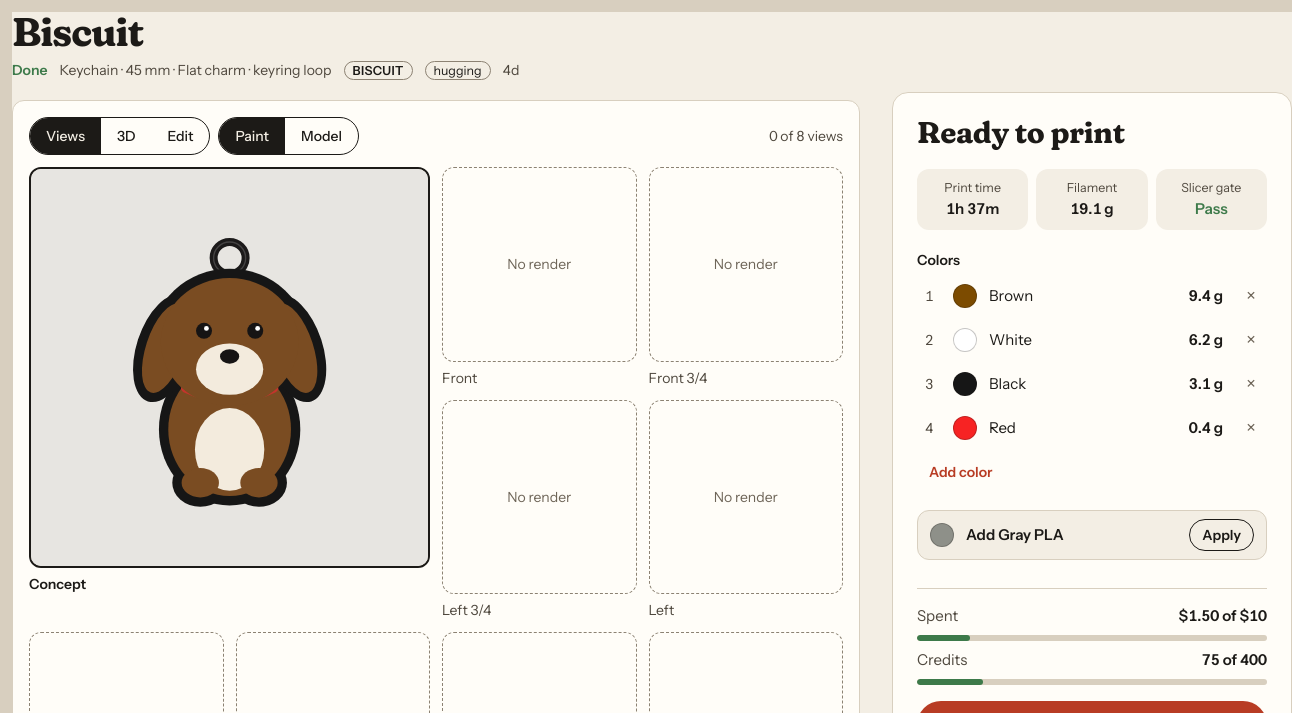
it: Filament picker › lists owned spools first, then catalog colors by line, with a Not owned tag and search
Expected: the text "Brown" is shown, [989,286,1033,304]
Click the button with aria-label "Change slot 1": (1011,295) [917,274,1231,318]
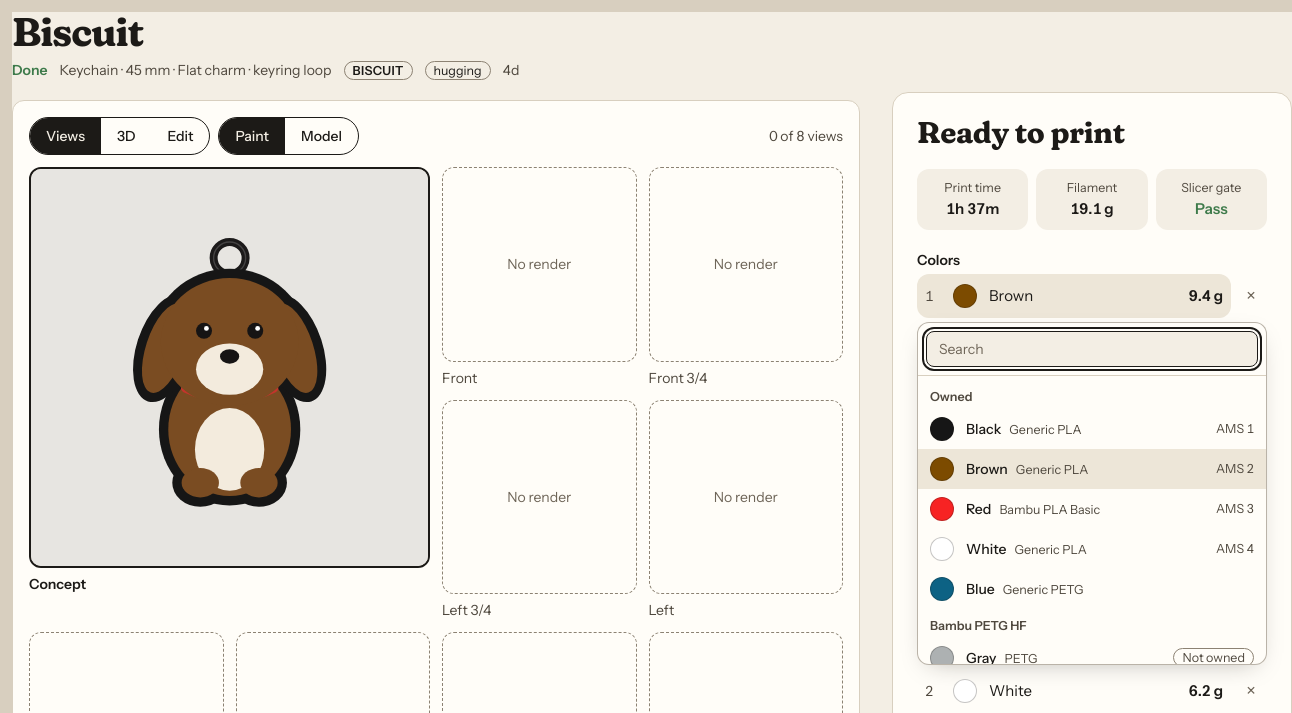
In the field named "Search colors": (1092,348) [926,330,1258,366], type "charcoal"
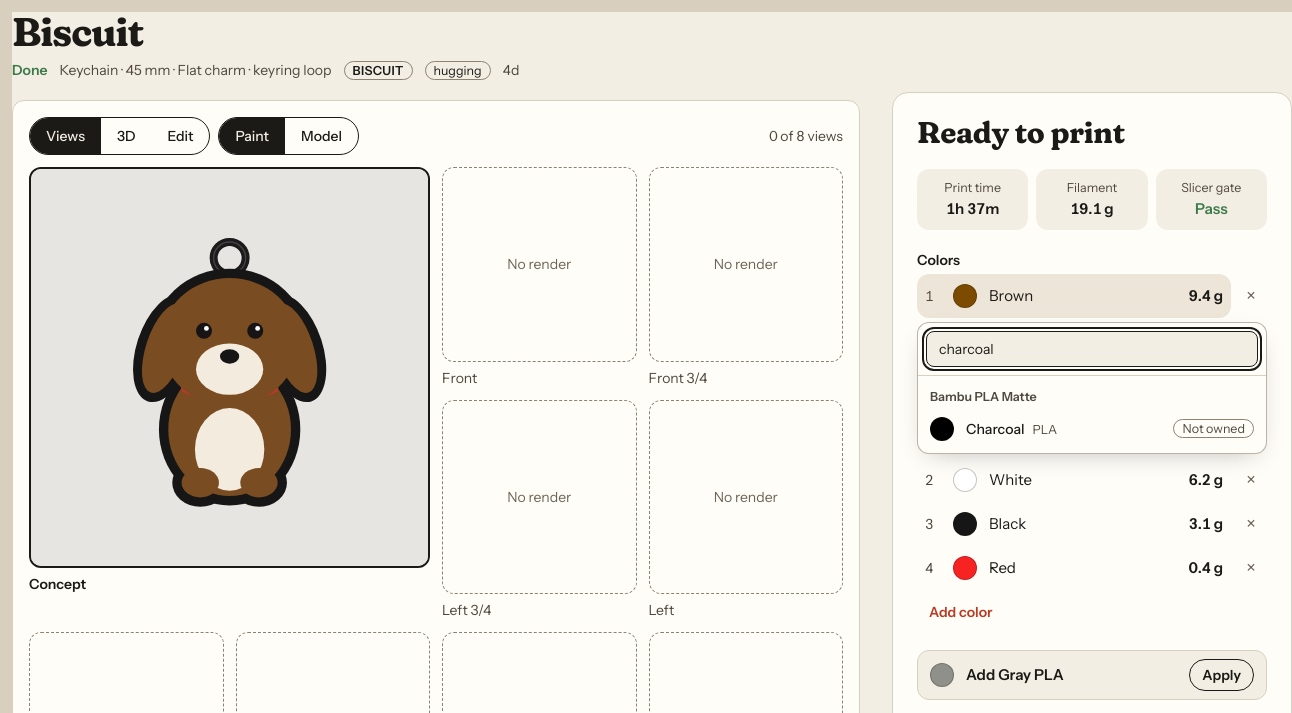
Replace the text in the field named "Search colors" with "zzz": (1092,348) [926,330,1258,366]
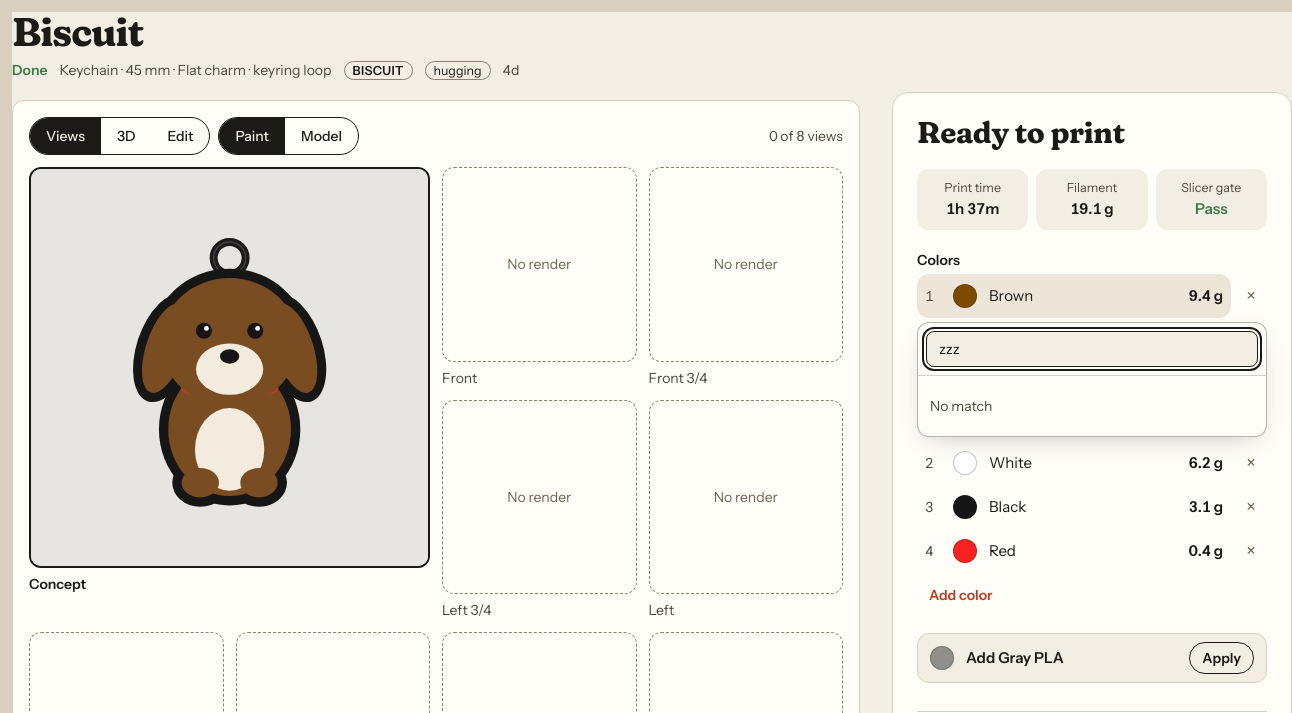
Expected: the text "No match" is shown, [930,396,992,414]
